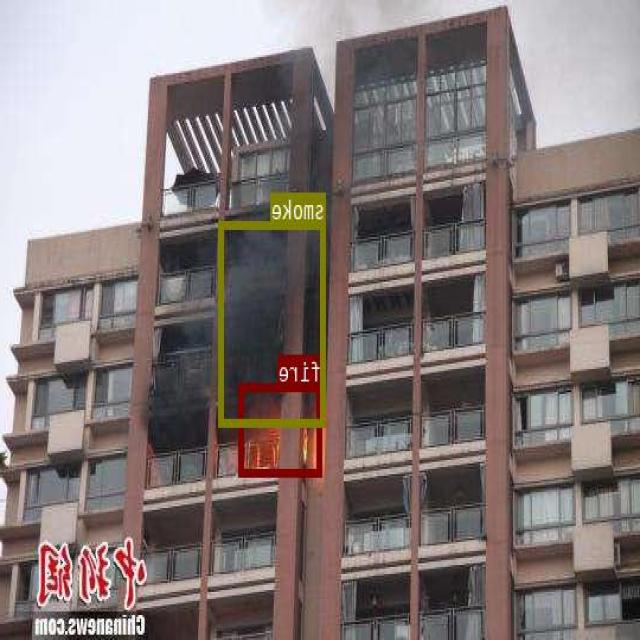fire: (240, 382, 324, 476)
smoke: (220, 219, 327, 425)
